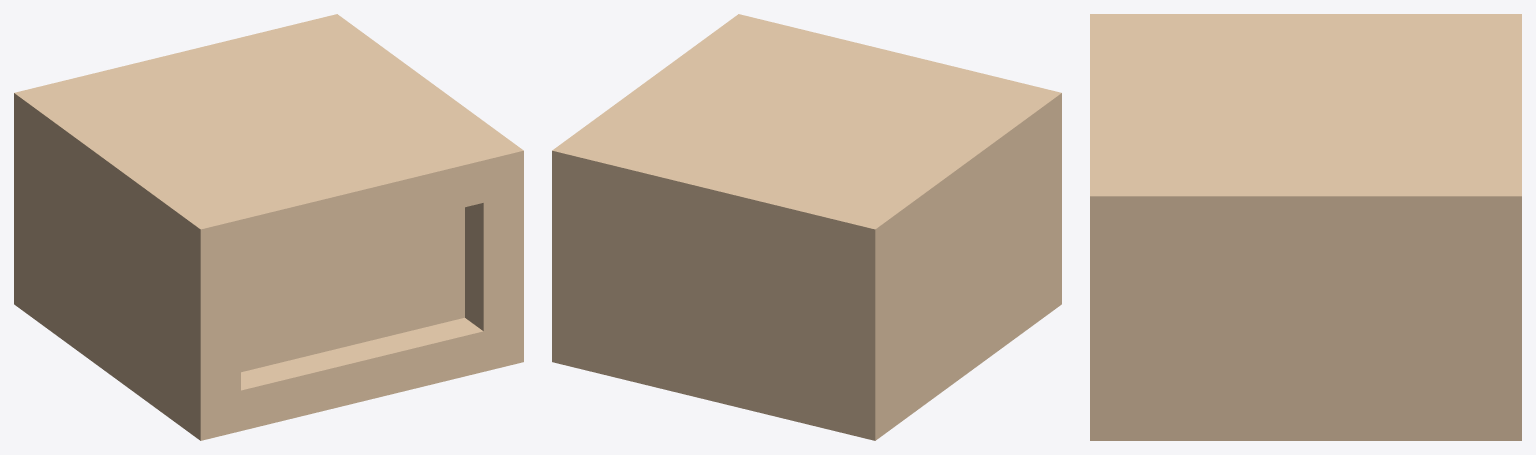
Rendered from building-window-wide.obj.
3 renders of one model, left to right at view 1: azimuth 30°, elevation 25°; view 2: azimuth 150°, elevation 25°; view 3: azimuth 270°, elevation 25°, orthographic. The views are drawn at different scales.
Size of the model in its own units: 1 by 0.625 by 1.
